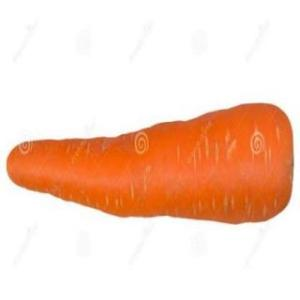carrot: (3, 96, 295, 238)
